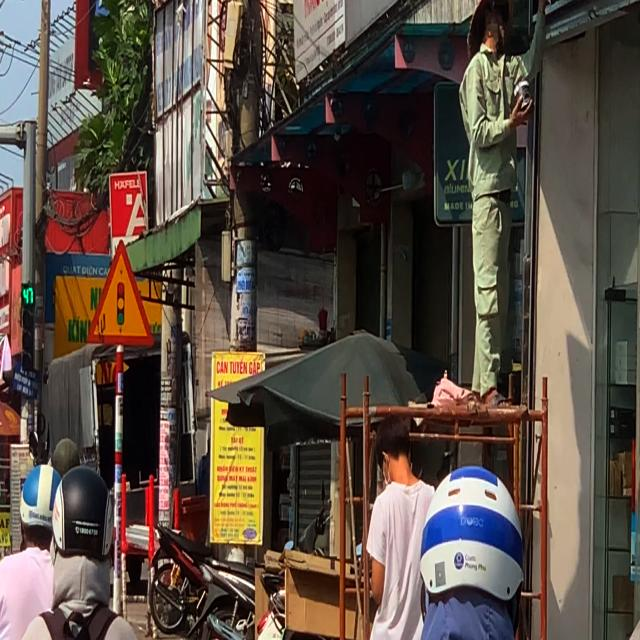Nguy hiem: (83, 234, 157, 352)
